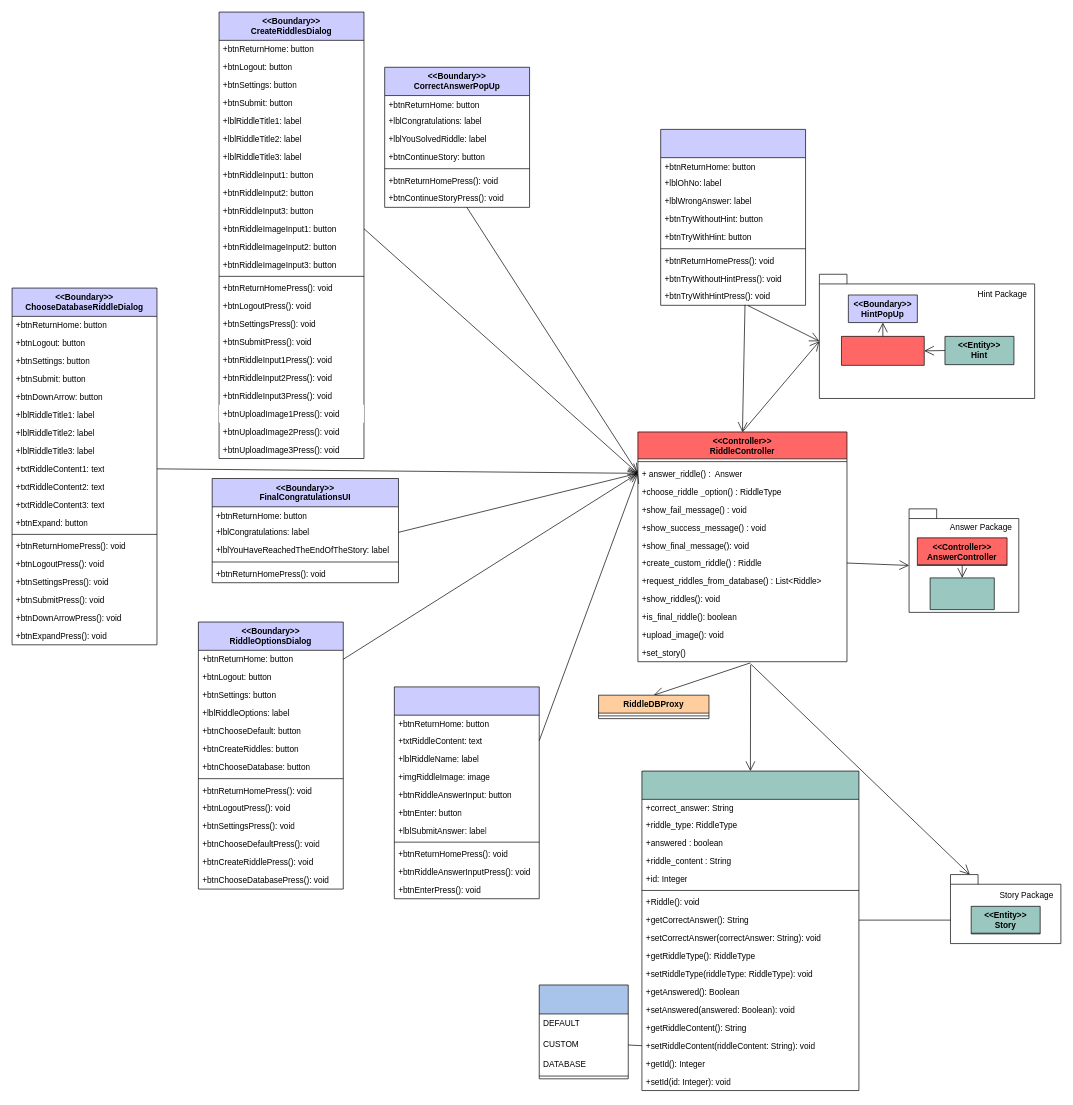
Some shapes in this 1073 by 1105 pixel diagram are drawn without their labels. The shapes that lost their labels are listed below. From the top down, each one's box as (x1, y1, x2, y2) in pixels, then its label:
(660, 129, 806, 305): <<Boundary>> WrongAnswerPopUp
(841, 336, 924, 365): <<Controller>> HintController
(929, 577, 994, 610): <<Entity>> Answer
(394, 686, 539, 899): <<Boundary>> AnwerRiddleDialog
(641, 770, 859, 1091): <<Entity>> Riddle
(539, 984, 628, 1079): <<enumeration>> RiddleType
